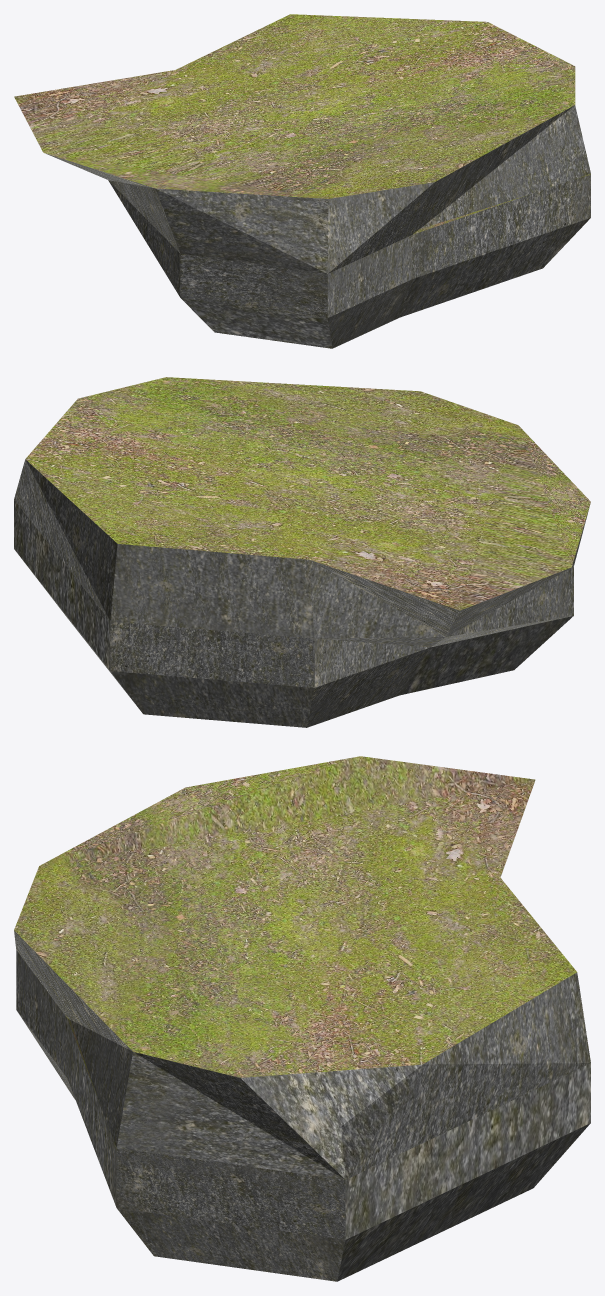
3 views of the same model, one above another, from view 1: azimuth 30°, elevation 25°; view 2: azimuth 150°, elevation 25°; view 3: azimuth 270°, elevation 25° (orthographic). The views are drawn at different scales.
Parts seen in each view (by area): view 1: rock_largeE; view 2: rock_largeE; view 3: rock_largeE.
Part boxes in pixels (bbox=[...]): rock_largeE: bbox=[14, 14, 590, 348]; rock_largeE: bbox=[14, 377, 590, 727]; rock_largeE: bbox=[14, 756, 590, 1281].
Size of the model in its own units: 4.43 by 1.36 by 3.23.
Materials: 1 (1 with a texture image).
